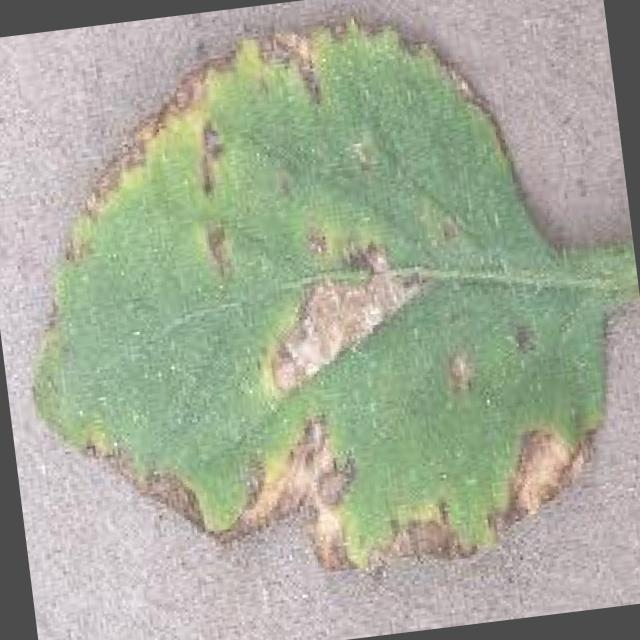bacterial spot: (25, 24, 640, 585)
